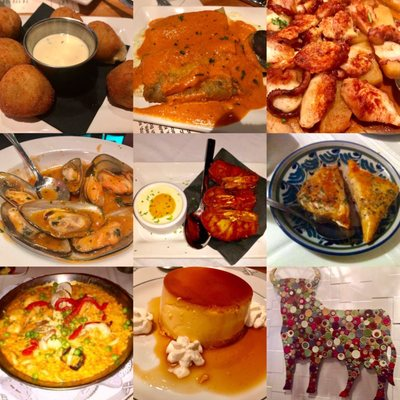soup: (132, 10, 266, 127)
sushi: (267, 139, 400, 258), (23, 16, 99, 96), (134, 182, 187, 233)
